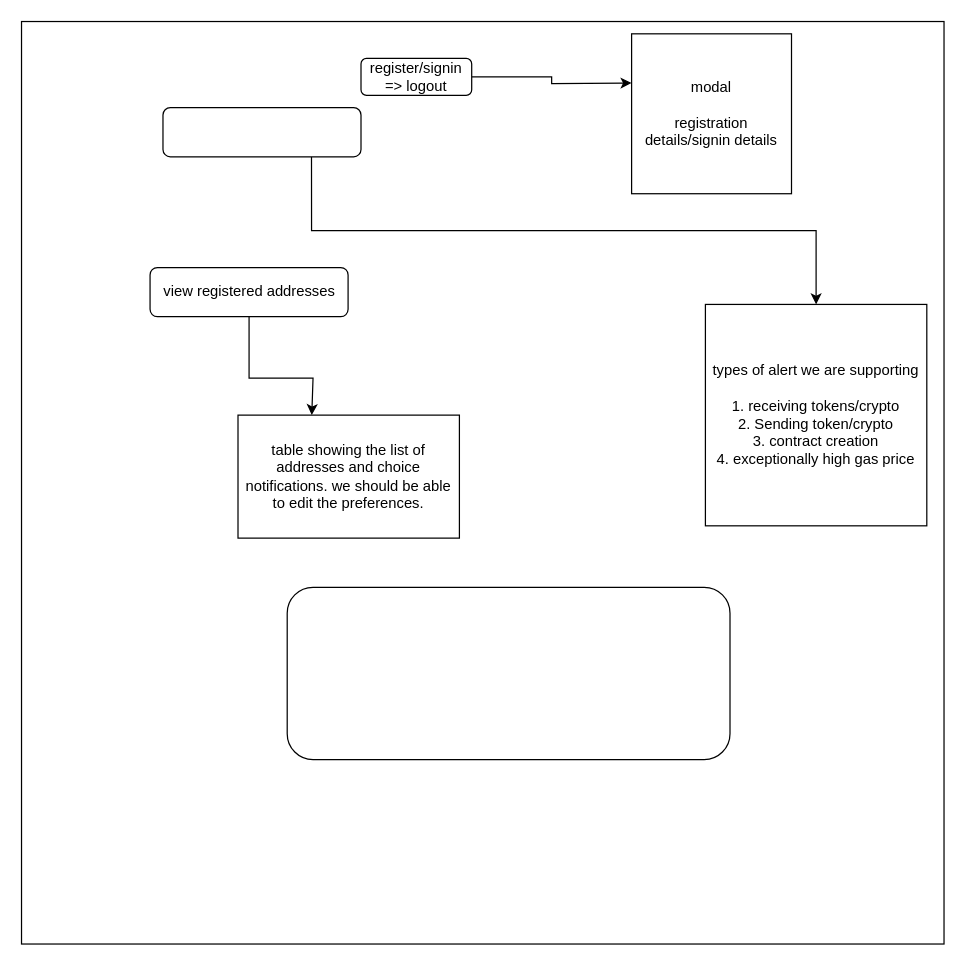
Some shapes in this 966 by 966 pixel diagram are drawn without their labels. Each missing label, with the centre of its shape:
"notification list." goes at point 508,673.
"register an address" goes at point 261,131.
